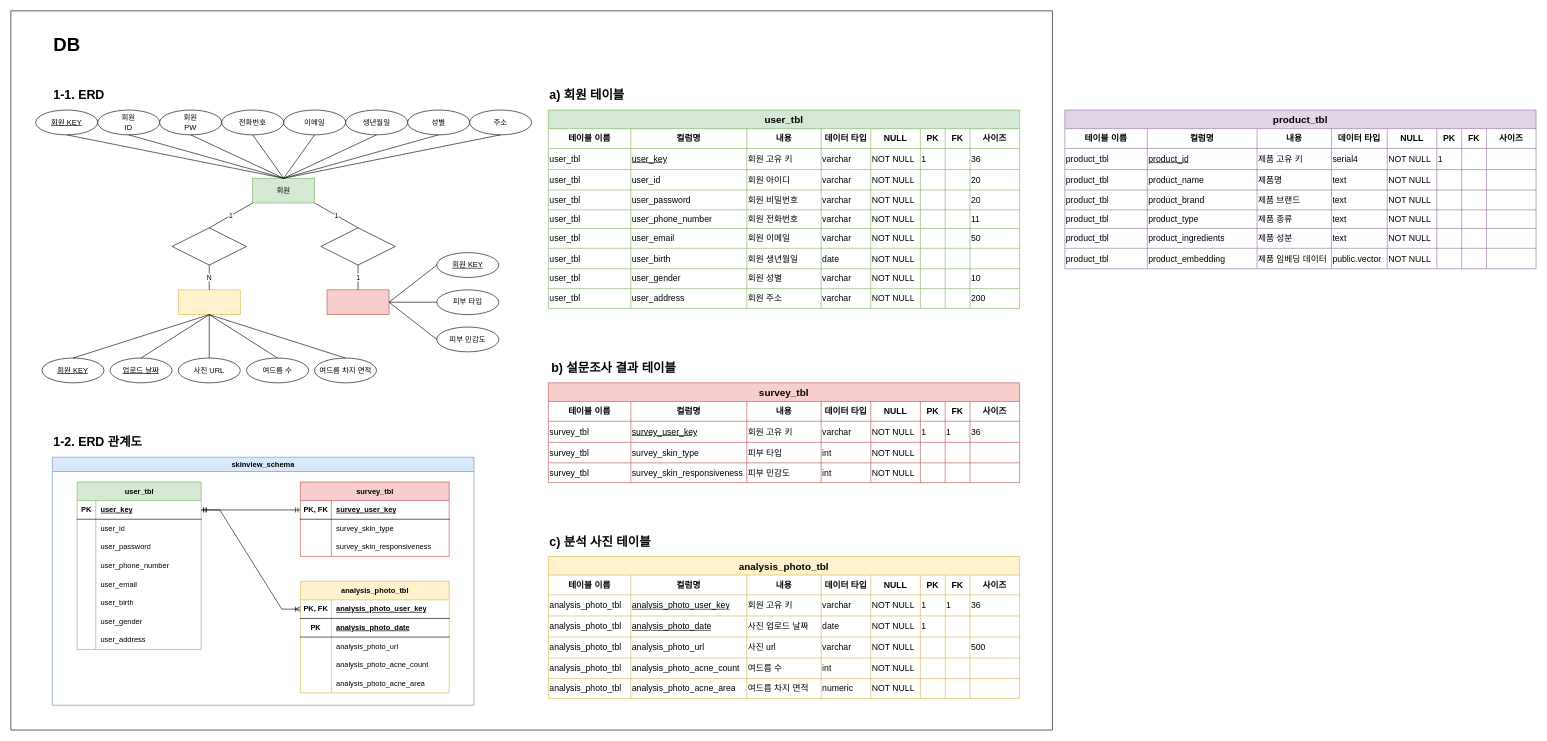
The diagram is 1547 pixels wide and 741 high, and some of its shapes have lost their labels. Each missing label, with the centre of its shape:
"분석사진" belongs at pixel 209 302.
"설문조사결과" belongs at pixel 357 302.
"조사" belongs at pixel 357 246.
"촬영" belongs at pixel 208 246.
